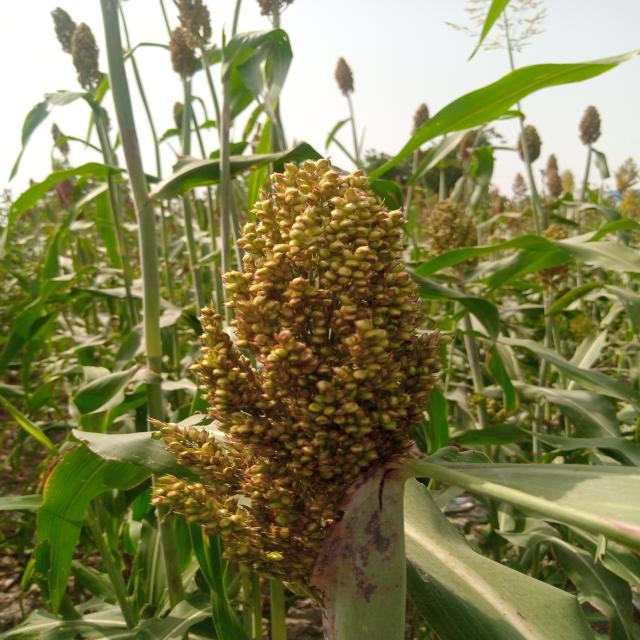UnripeSorghum: (167, 139, 471, 586)
